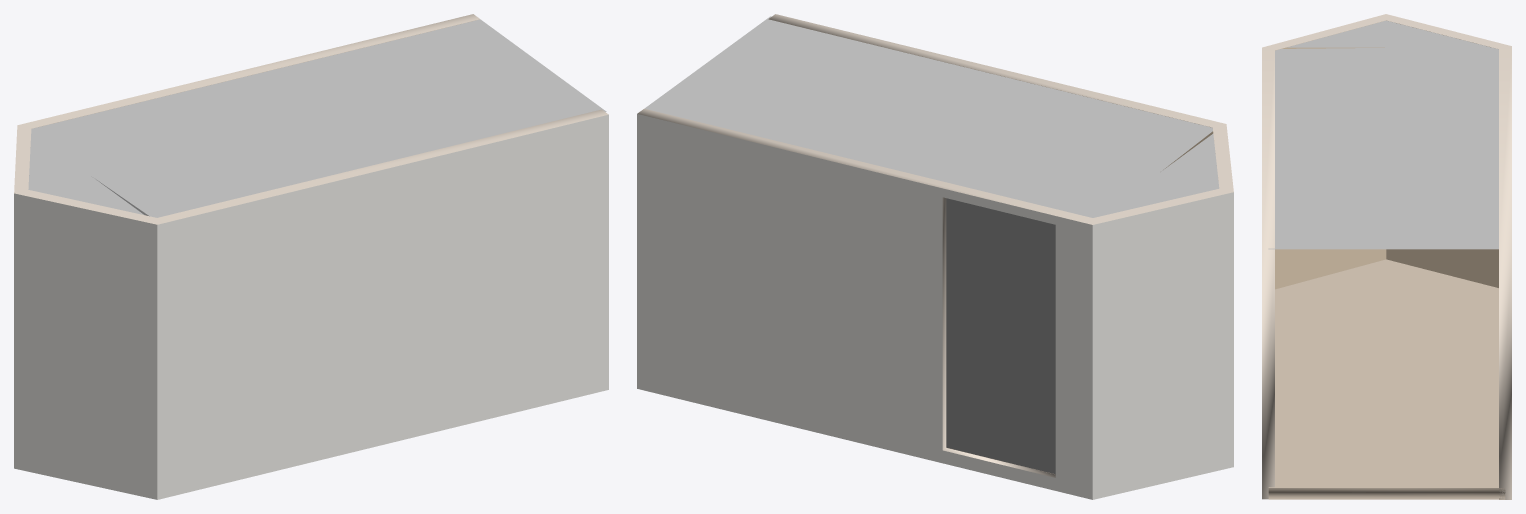
The picture shows the model from 3 angles, left to right: view 1: azimuth 30°, elevation 25°; view 2: azimuth 150°, elevation 25°; view 3: azimuth 270°, elevation 25°; orthographic projection. The views are drawn at different scales.
Parts seen in each view (by area): view 1: Wall_2, Ceiling_Room_1, Wall_3, Wall_4, Ceiling_Room_2, Wall_1; view 2: Wall_4, Ceiling_Room_1, Wall_1, Door_0, Wall_2, Ceiling_Room_2, Wall_3; view 3: Floor_Room, Ceiling_Room_1, Wall_4, Wall_2, Wall_3, Wall_1, Ceiling_Room_2.
Part boxes in pixels (left/top/right/bottom): Wall_2: left=157, top=109, right=608, bottom=499; Ceiling_Room_1: left=31, top=19, right=606, bottom=217; Wall_3: left=14, top=190, right=157, bottom=499; Wall_4: left=18, top=14, right=479, bottom=128; Ceiling_Room_2: left=28, top=132, right=143, bottom=214; Wall_1: left=14, top=125, right=31, bottom=193; Wall_4: left=637, top=108, right=1092, bottom=499; Ceiling_Room_1: left=645, top=16, right=1212, bottom=217; Wall_1: left=1092, top=188, right=1233, bottom=499; Door_0: left=946, top=198, right=1055, bottom=474; Wall_2: left=768, top=14, right=1225, bottom=169; Ceiling_Room_2: left=1100, top=134, right=1219, bottom=216; Wall_3: left=1212, top=124, right=1233, bottom=191; Floor_Room: left=1268, top=259, right=1505, bottom=499; Ceiling_Room_1: left=1268, top=47, right=1498, bottom=249; Wall_4: left=1499, top=46, right=1511, bottom=499; Wall_2: left=1262, top=47, right=1274, bottom=499; Wall_3: left=1262, top=14, right=1386, bottom=289; Wall_1: left=1386, top=14, right=1511, bottom=287; Ceiling_Room_2: left=1287, top=20, right=1491, bottom=47.
Size of the model in its own units: 4.3 by 2.14 by 1.93.
Materials: 5 (1 with a texture image).
